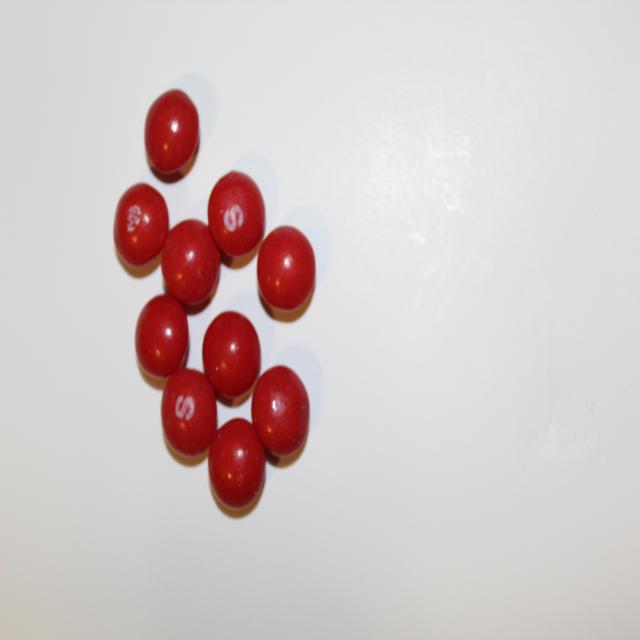smartie: (251, 366, 310, 457), (208, 418, 266, 510), (202, 311, 260, 398), (161, 219, 220, 304), (257, 225, 316, 310), (208, 170, 265, 256), (161, 369, 216, 457), (113, 182, 168, 267), (144, 88, 199, 172), (135, 294, 188, 377)
